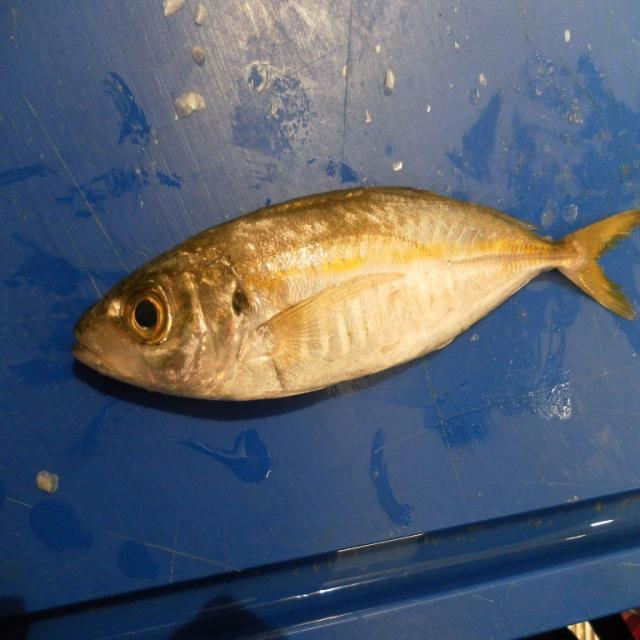Hourse-Mackerel-istavrit-: (71, 186, 640, 405)
